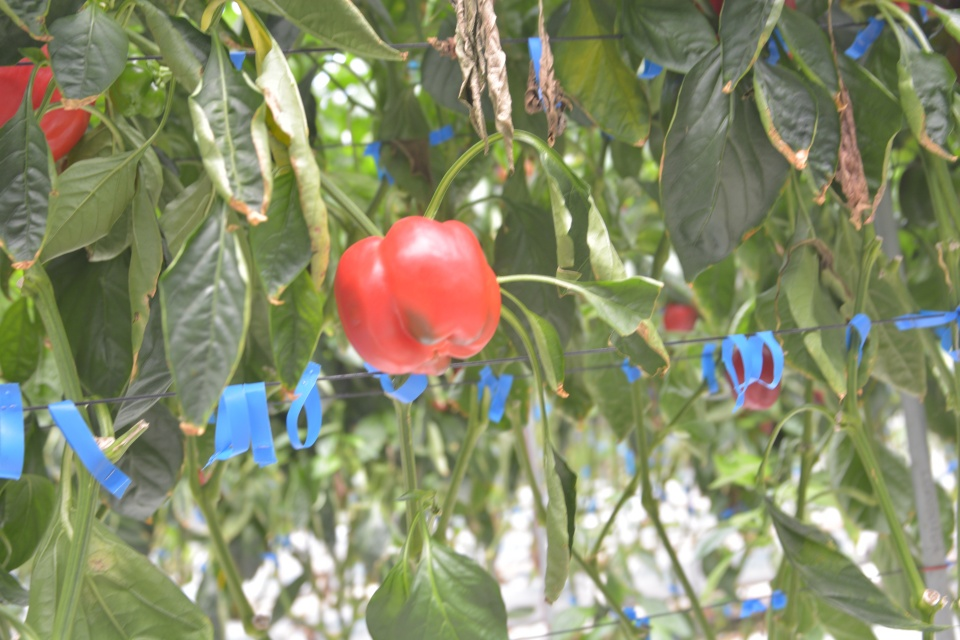fruit: (332, 214, 504, 378), (0, 37, 98, 166), (723, 338, 786, 412), (660, 300, 697, 336)
immature: (108, 52, 168, 118)
